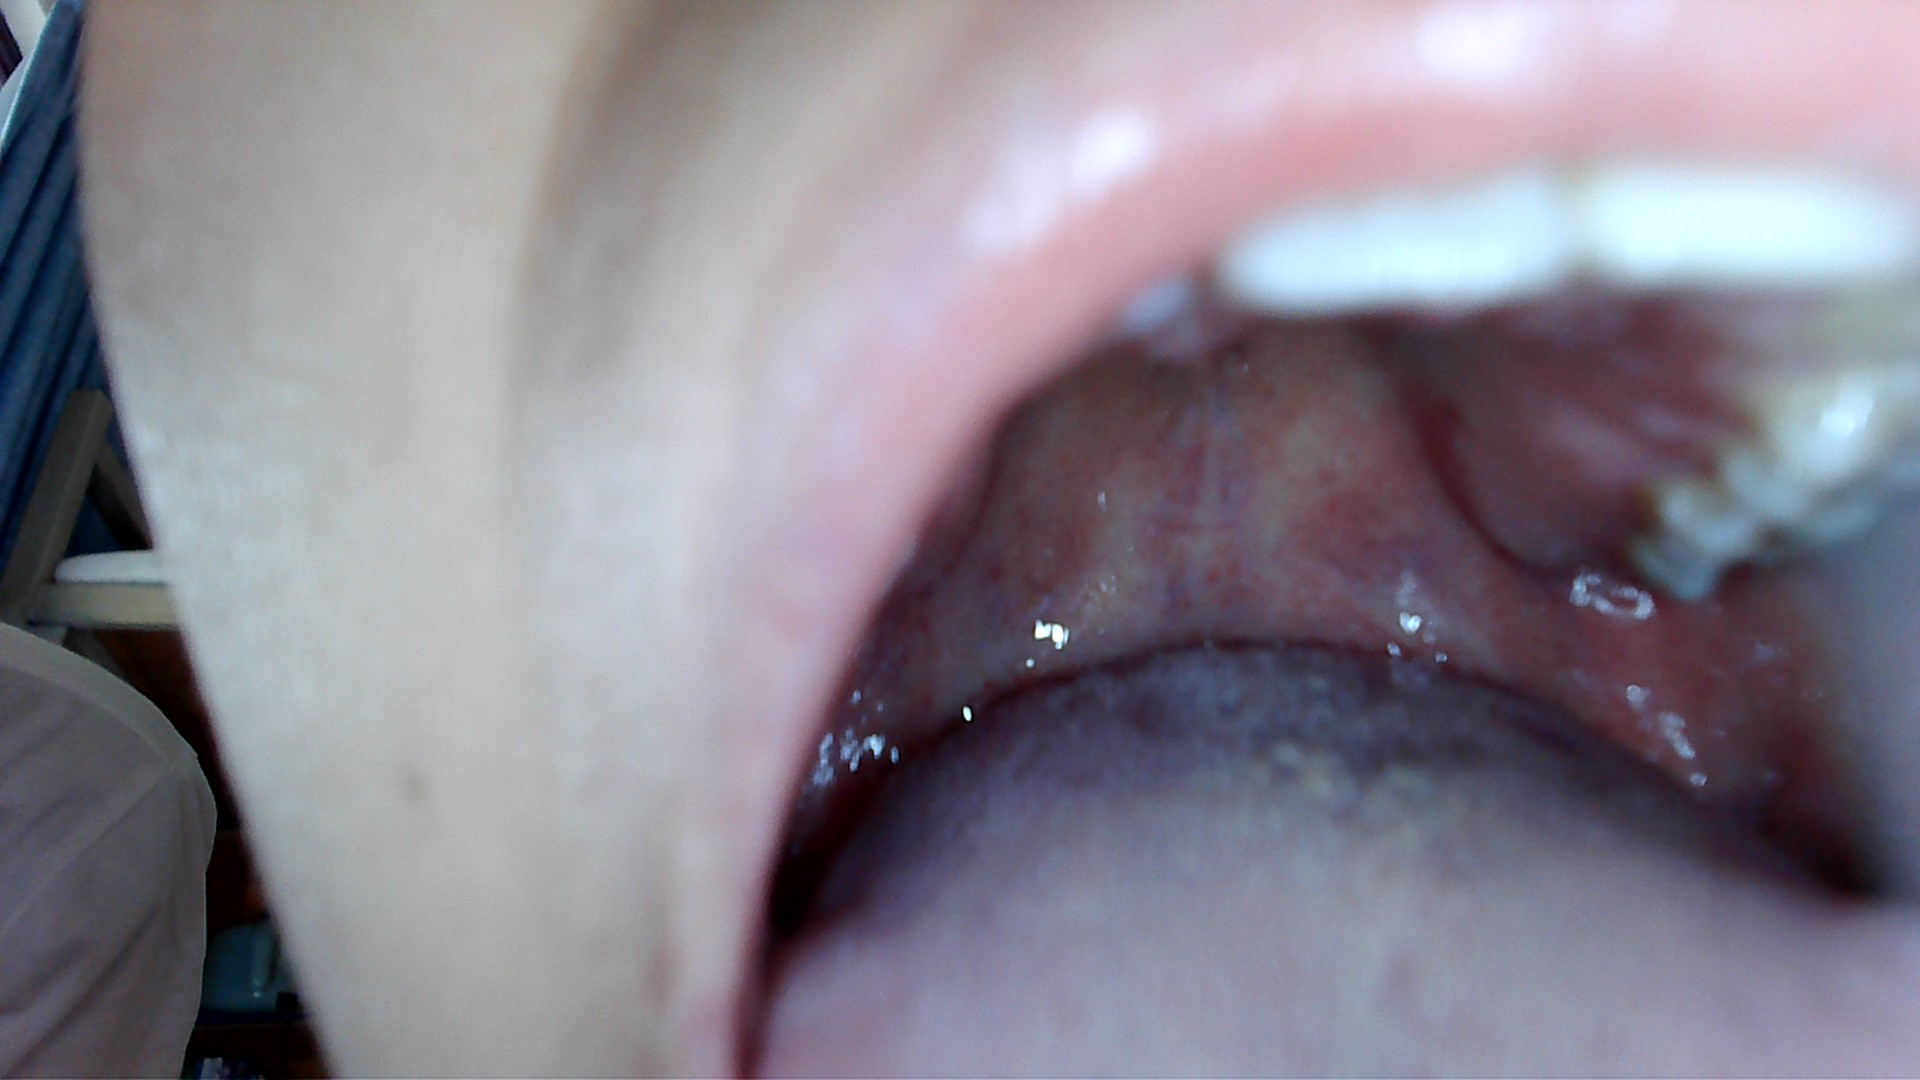throat: (1258, 564, 1474, 700)
